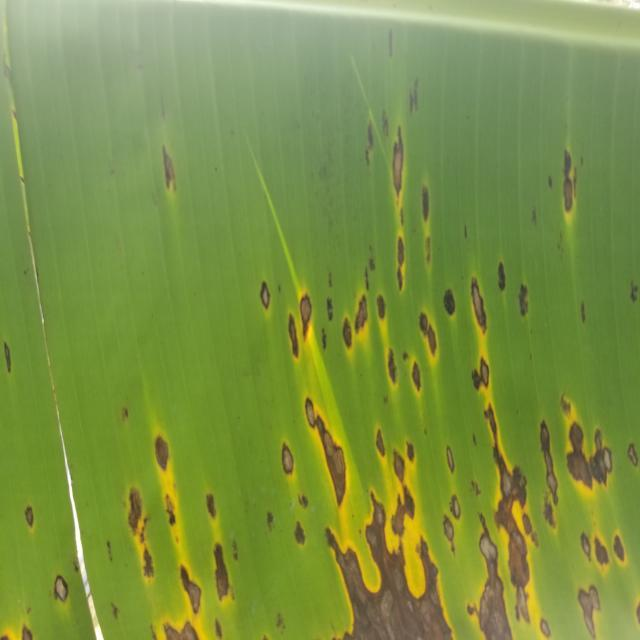Early_rust: (0, 25, 640, 637)
